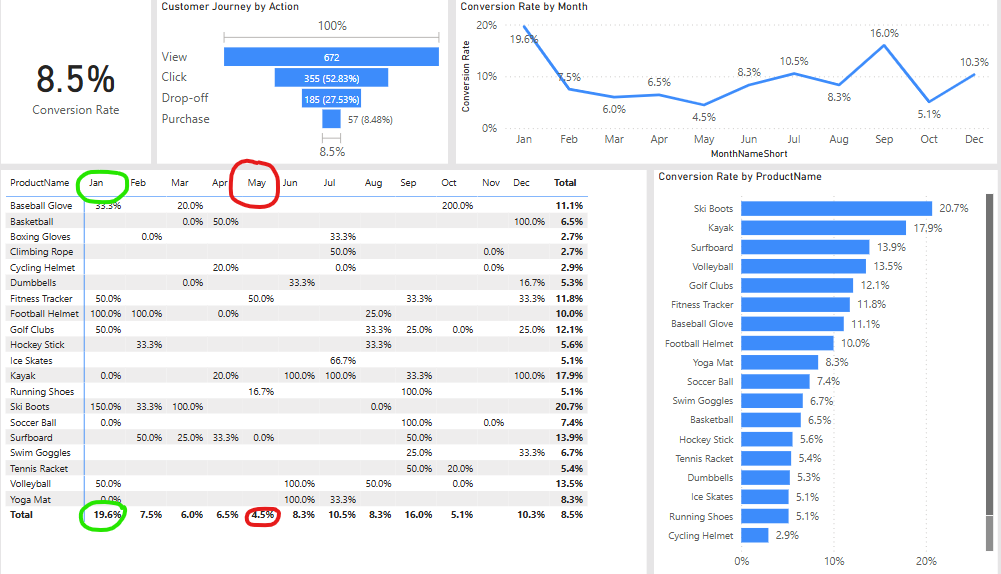

Layout of this report page (visuals, bound fields, positions):
{"tool":"powerbi","page":{"name":"Conversion Details","canvas":[1280,720],"ordinal":1},"visuals":[{"type":"textbox","box":[10,0,1256.4,75.5],"z":0},{"type":"slicer","fields":{"Values":["dim_products.ProductName"]},"box":[0,84.5,163.6,635.5],"z":1000},{"type":"card","fields":{"Values":["_Calculations.Conversion Rate"]},"box":[171.8,84.5,164.5,180],"z":2000},{"type":"slicer","fields":{"Values":["Calendar.Year"]},"box":[290,4.5,280,64.5],"z":3000},{"type":"slicer","fields":{"Values":["Calendar.MonthNameShort"]},"box":[556.4,4.5,693.6,64.5],"z":4000},{"type":"lineChart","title":"Conversion Rate by Month","fields":{"Y":["_Calculations.Conversion Rate"],"Category":["Calendar.MonthNameShort"]},"box":[671.8,84.5,594.5,180],"z":5000},{"type":"barChart","fields":{"Category":["dim_products.ProductName"],"Y":["_Calculations.Conversion Rate"]},"box":[889.1,271.8,378.2,448.2],"z":6000},{"type":"funnel","title":"Customer Journey by Action","fields":{"Category":["fact_customer_journey.Action"],"Y":["_Calculations.Number of Customer Journey"]},"box":[343.6,84.5,320,180],"z":7000},{"type":"pivotTable","fields":{"Rows":["dim_products.ProductName"],"Columns":["Calendar.MonthNameShort"],"Values":["_Calculations.Conversion Rate"]},"box":[171.8,271.8,710,448.2],"z":8000}]}

Visuals, with their boxes in screenshot pixels (x1, y1, x2, y2), scaled from the page's 1280x720 canvas onto the 1001x574 screenshot:
textbox: box(8, 0, 990, 60)
slicer - dim_products.ProductName: box(0, 67, 128, 573)
card - _Calculations.Conversion Rate: box(134, 67, 263, 211)
slicer - Calendar.Year: box(227, 4, 446, 55)
slicer - Calendar.MonthNameShort: box(435, 4, 978, 55)
"Conversion Rate by Month" lineChart: box(525, 67, 990, 211)
barChart - dim_products.ProductName x _Calculations.Conversion Rate: box(695, 217, 991, 573)
"Customer Journey by Action" funnel: box(269, 67, 519, 211)
pivotTable - dim_products.ProductName x Calendar.MonthNameShort: box(134, 217, 690, 573)
